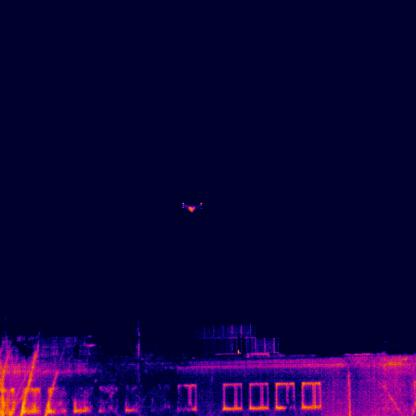drone: (181, 201, 202, 217)
